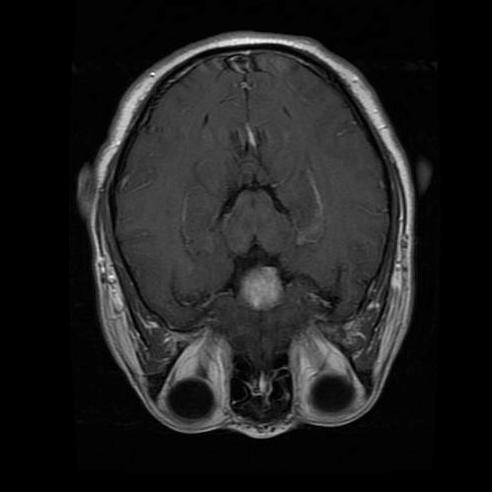Tumour-Pituitary: (243, 265, 289, 311)
